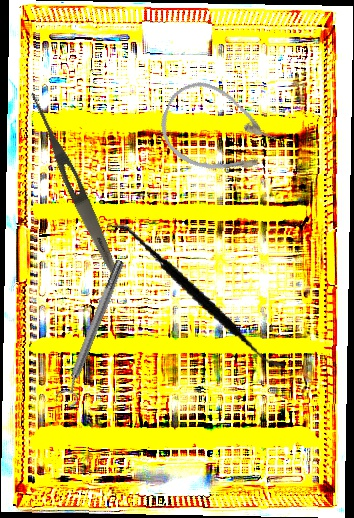Cannula: (149, 71, 286, 193)
Dressing Forceps: (22, 88, 124, 279)
Fixation Ring: (52, 256, 133, 410)
Spatula Surgical: (87, 221, 304, 370)
